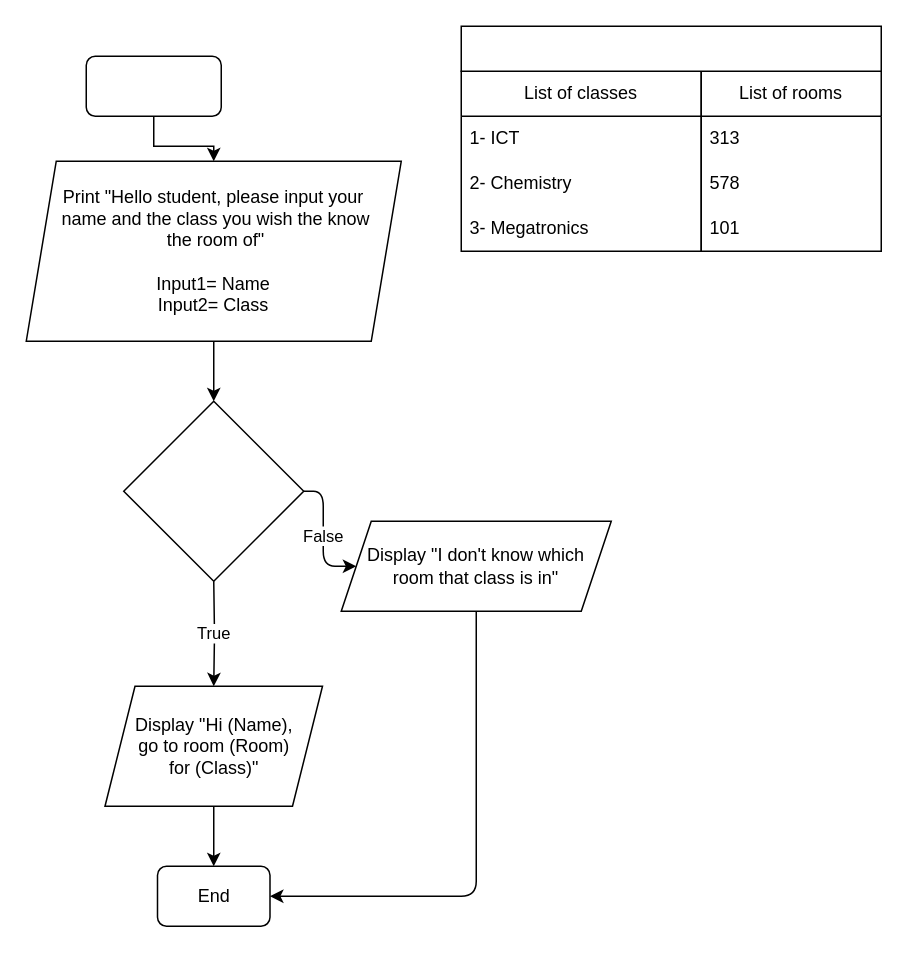
The diagram is 908 pixels wide and 953 high, and some of its shapes have lost their labels. The shapes that lost their labels are listed below. From the top down, each one's centre as x and y in pixels, then its label:
At (670,48): "Dictionary".
At (153,85): "Start".
At (213,490): "Check if Class exist in dictionary".
